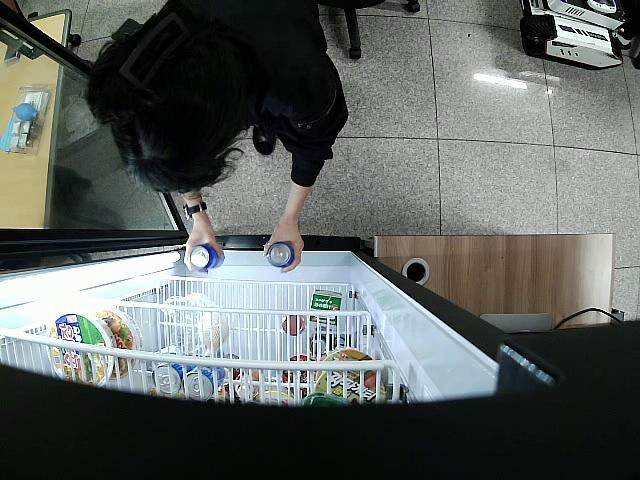00_hand: (263, 223, 305, 273), (183, 227, 226, 275)
13_pocariSweat: (189, 243, 225, 270), (267, 241, 292, 271)
